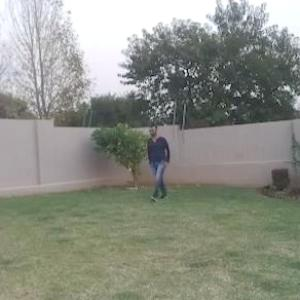follow: (146, 120, 172, 202)
